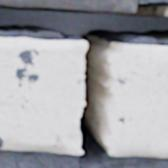brick: (0, 0, 136, 12)
broken_brick: (0, 37, 86, 154), (102, 44, 167, 157)
crack: (0, 1, 167, 166)
